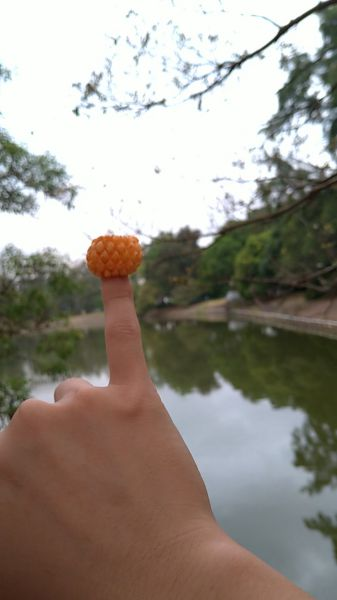eggs: (86, 235, 144, 279)
